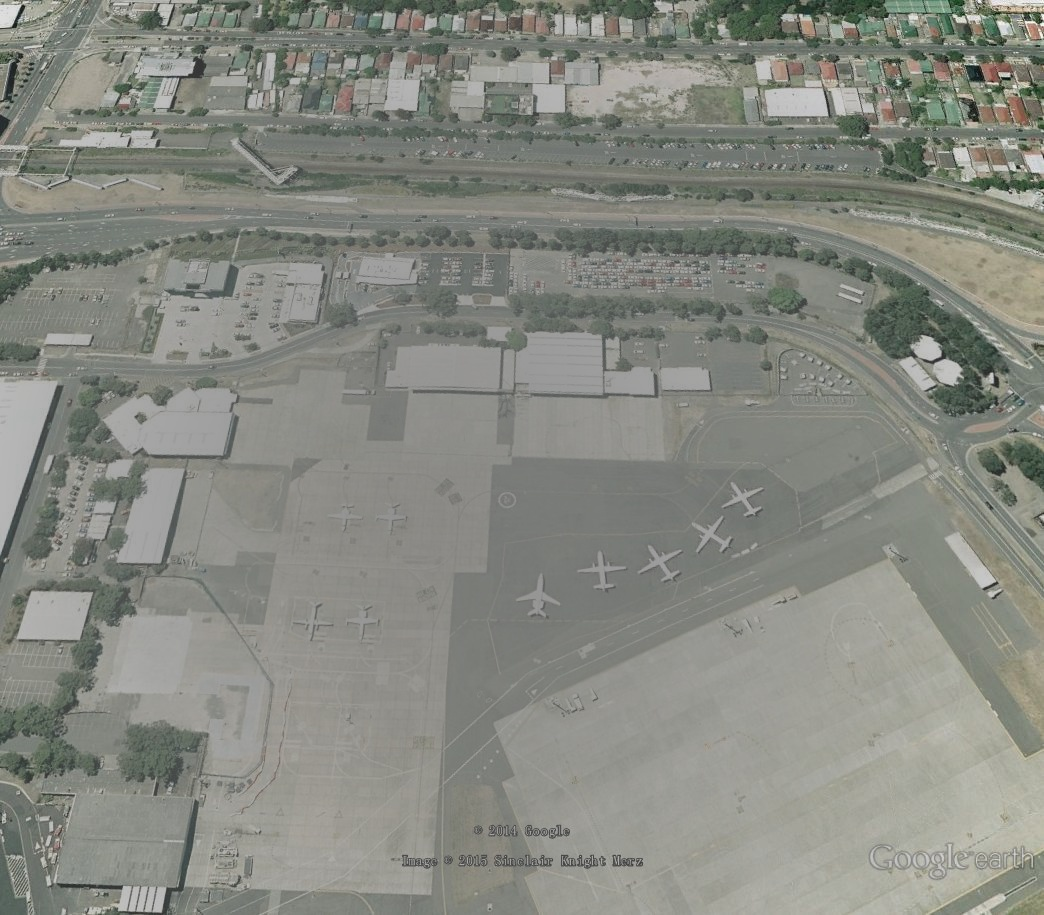aircraft: (514, 571, 565, 622), (575, 549, 631, 592), (636, 542, 686, 585), (688, 514, 735, 557), (292, 598, 334, 645), (719, 481, 768, 519), (344, 602, 384, 646), (374, 499, 410, 540), (327, 501, 365, 535)
